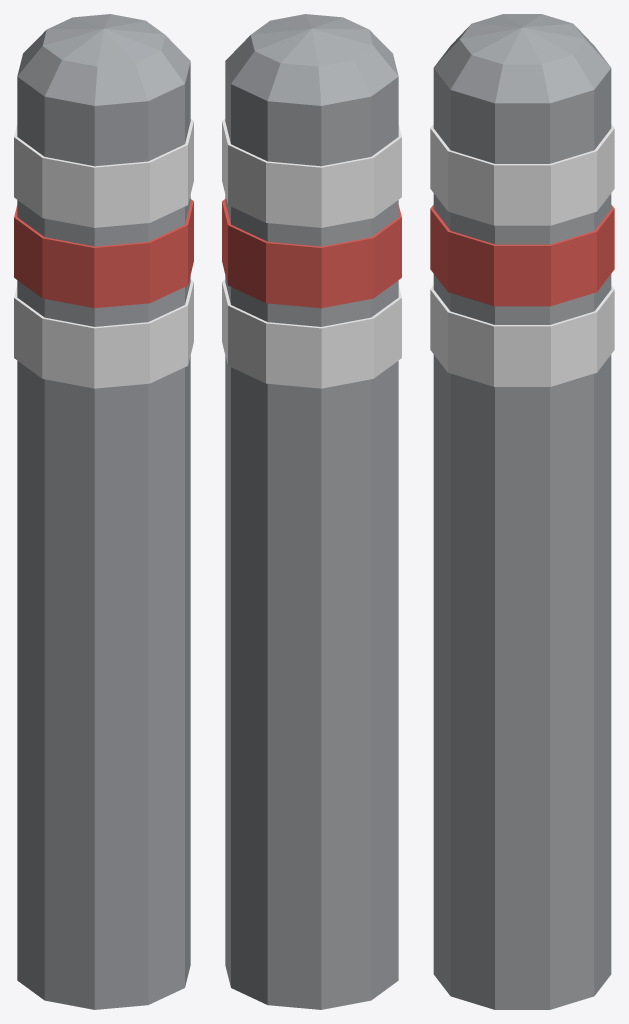
The model's file is bollard.glb.
3 renders of one model, left to right at view 1: azimuth 30°, elevation 25°; view 2: azimuth 150°, elevation 25°; view 3: azimuth 270°, elevation 25°, orthographic.
Visible parts, largest first — view 1: bollard; view 2: bollard; view 3: bollard.
Boxes of the visible parts, x1,y1,x2,y2 form: bollard: [14, 14, 193, 1009]; bollard: [222, 14, 401, 1009]; bollard: [430, 14, 614, 1009].
Bounding box in the file's own units: 0.1579 × 0.94 × 0.166.
